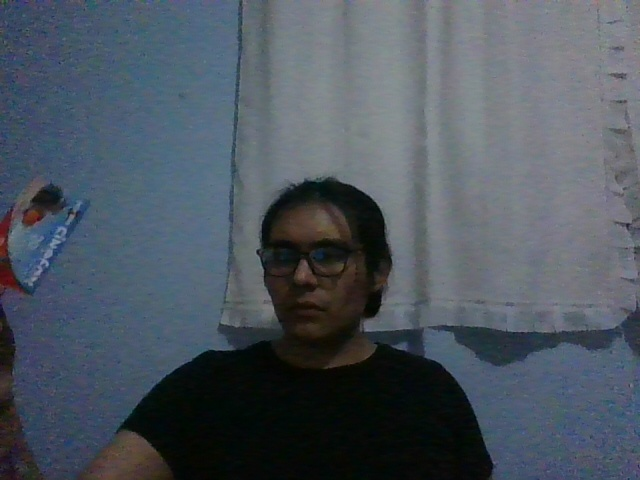tarjeta: (1, 176, 90, 296)
